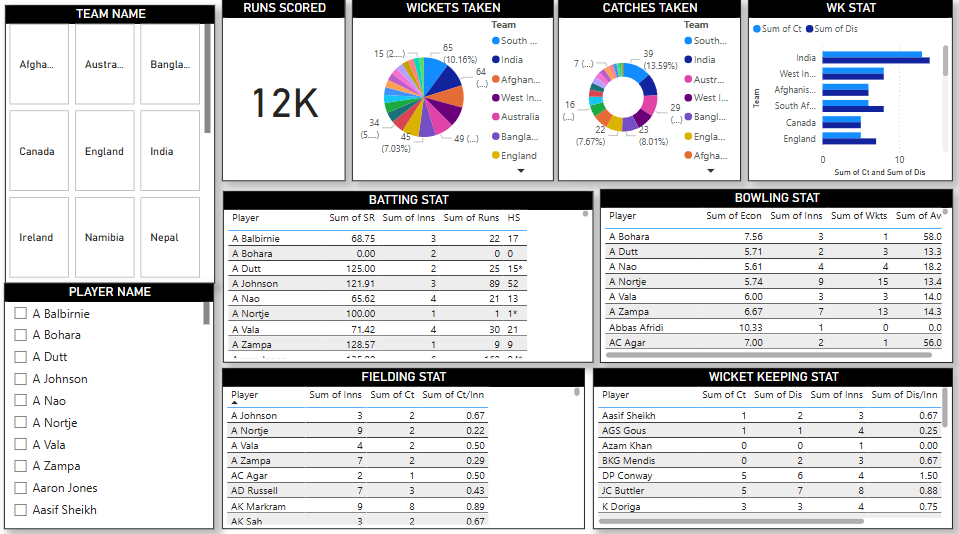

Layout of this report page (visuals, bound fields, positions):
{"tool":"powerbi","page":{"name":"PLAYER","canvas":[1280,720],"ordinal":0},"visuals":[{"type":"advancedSlicerVisual","title":"TEAM NAME","fields":{"Values":["Team_name.Team"]},"box":[10.2,14.7,279.3,369.7],"z":0},{"type":"slicer","title":"PLAYER NAME","fields":{"Values":["Player_name.Player"]},"box":[9,384.4,279.3,326.8],"z":1000},{"type":"tableEx","title":"BATTING STAT","fields":{"Values":["batting_t20_world_cup_2024.Player","batting_t20_world_cup_2024.SR","batting_t20_world_cup_2024.Inns","batting_t20_world_cup_2024.Runs","batting_t20_world_cup_2024.HS"]},"box":[299.6,261.2,491.8,228.4],"z":2000},{"type":"tableEx","title":"BOWLING STAT","fields":{"Values":["bowling_t20_world_cup_2024.Player","bowling_t20_world_cup_2024.Econ","bowling_t20_world_cup_2024.Inns","bowling_t20_world_cup_2024.Wkts","bowling_t20_world_cup_2024.Ave"]},"box":[800.5,258.9,469.2,230.7],"z":3000},{"type":"tableEx","title":"FIELDING STAT","fields":{"Values":["Fielding_t20_world_cup_2024.Player","Fielding_t20_world_cup_2024.Inns","Fielding_t20_world_cup_2024.Ct","Fielding_t20_world_cup_2024.Ct/Inn"]},"box":[298.5,497.5,481.7,213.7],"z":4000},{"type":"tableEx","title":"WICKET KEEPING STAT","fields":{"Values":["wk_t20_world_cup_2024.Player","wk_t20_world_cup_2024.Ct","wk_t20_world_cup_2024.Dis","wk_t20_world_cup_2024.Inns","wk_t20_world_cup_2024.Dis/Inn","wk_t20_world_cup_2024.Max Dis Inns"]},"box":[791.5,497.5,478.3,213.7],"z":5000},{"type":"card","title":"RUNS SCORED","fields":{"Values":["Divide(Sum(batting_t20_world_cup_2024.Runs), ScopedEval(Sum(batting_t20_world_cup_2024.Runs), []))"]},"box":[298.5,6.8,163.9,242],"z":6000},{"type":"pieChart","title":"WICKETS TAKEN","fields":{"Y":["bowling_t20_world_cup_2024.Wkts"],"Category":["Team_name.Team"]},"box":[471.5,6.8,268,242],"z":7000},{"type":"donutChart","title":"CATCHES TAKEN","fields":{"Y":["Fielding_t20_world_cup_2024.Ct"],"Category":["Team_name.Team"]},"box":[745.1,6.8,243.1,242],"z":8000},{"type":"clusteredBarChart","title":"WK STAT","fields":{"Category":["Team_name.Team"],"Y":["wk_t20_world_cup_2024.Ct","wk_t20_world_cup_2024.Ct","wk_t20_world_cup_2024.Dis"]},"box":[997.2,6.8,272.5,242],"z":9000}]}

Visuals, with their boxes in screenshot pixels (x1, y1, x2, y2), scaled from the page's 1280x720 canvas onto the 959x534 screenshot:
"TEAM NAME" advancedSlicerVisual: {"x1": 8, "y1": 11, "x2": 217, "y2": 285}
"PLAYER NAME" slicer: {"x1": 7, "y1": 285, "x2": 216, "y2": 527}
"BATTING STAT" tableEx: {"x1": 224, "y1": 194, "x2": 593, "y2": 363}
"BOWLING STAT" tableEx: {"x1": 600, "y1": 192, "x2": 951, "y2": 363}
"FIELDING STAT" tableEx: {"x1": 224, "y1": 369, "x2": 585, "y2": 527}
"WICKET KEEPING STAT" tableEx: {"x1": 593, "y1": 369, "x2": 951, "y2": 527}
"RUNS SCORED" card: {"x1": 224, "y1": 5, "x2": 346, "y2": 185}
"WICKETS TAKEN" pieChart: {"x1": 353, "y1": 5, "x2": 554, "y2": 185}
"CATCHES TAKEN" donutChart: {"x1": 558, "y1": 5, "x2": 740, "y2": 185}
"WK STAT" clusteredBarChart: {"x1": 747, "y1": 5, "x2": 951, "y2": 185}
